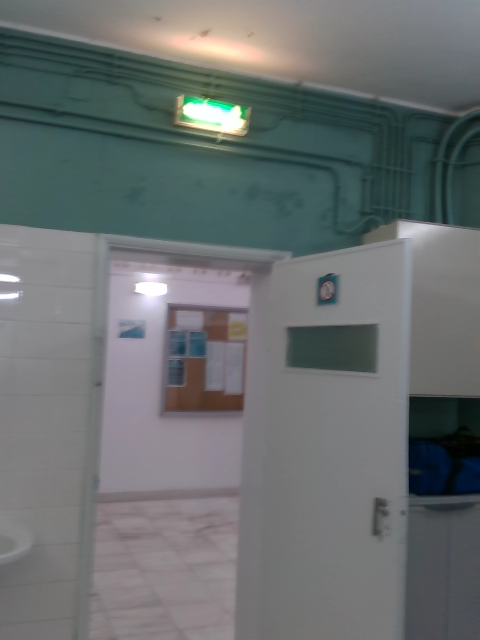open: (76, 241, 408, 639)
